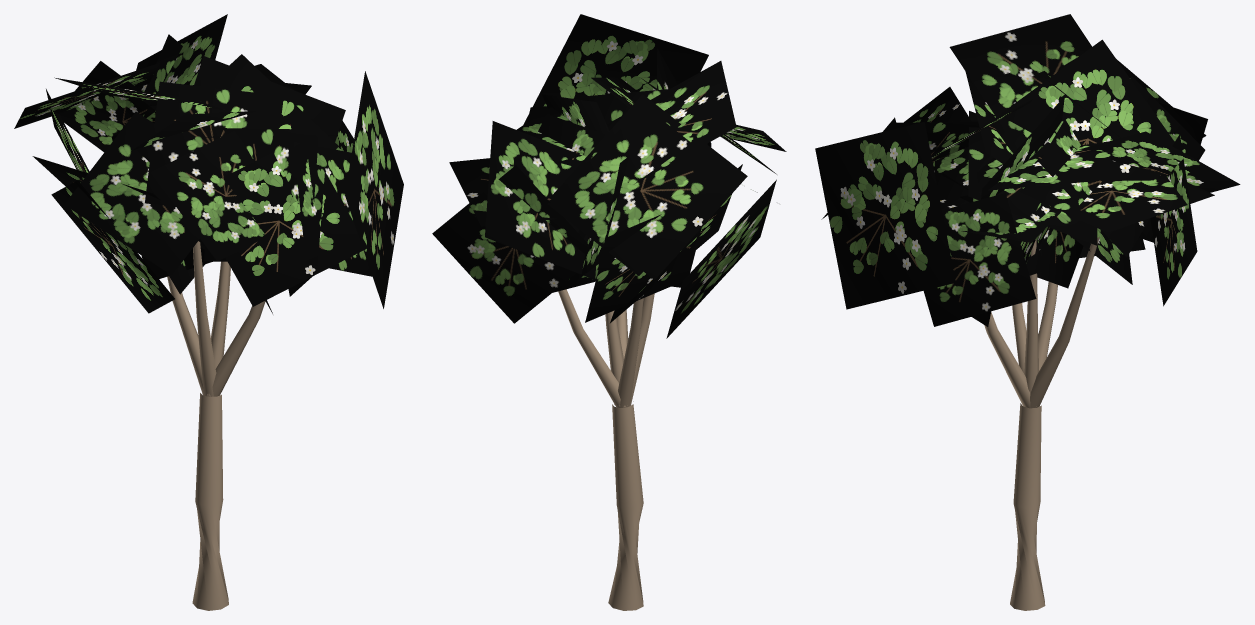
The model's file is bauhinia-forficata.glb.
The picture shows the model from 3 angles, left to right: view 1: azimuth 30°, elevation 25°; view 2: azimuth 150°, elevation 25°; view 3: azimuth 270°, elevation 25°; orthographic projection. The views are drawn at different scales.
Parts seen in each view (by area): view 1: folhas, tronco; view 2: folhas, tronco; view 3: folhas, tronco.
Part boxes in pixels (left/top/right/bottom): folhas: left=14, top=14, right=403, bottom=313; tronco: left=167, top=241, right=265, bottom=610; folhas: left=432, top=14, right=786, bottom=338; tronco: left=558, top=289, right=654, bottom=610; folhas: left=815, top=14, right=1240, bottom=326; tronco: left=984, top=237, right=1099, bottom=610.
Bounding box in the file's own units: 4.09 × 7 × 5.
2 materials, 1 textured.
